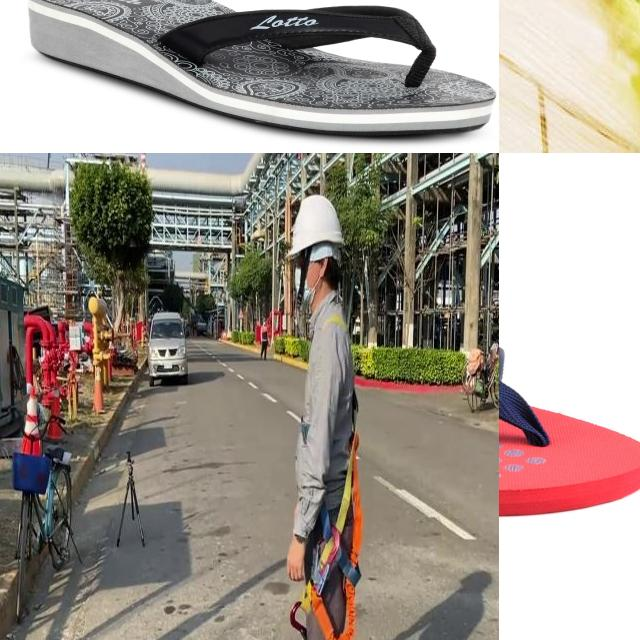Harness: (304, 435, 363, 640)
Sandals: (24, 0, 497, 142), (499, 313, 640, 518)
